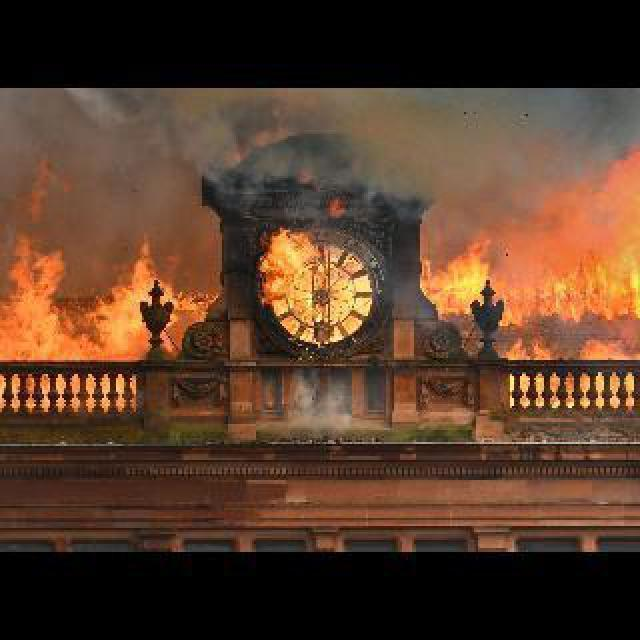Fire: (2, 232, 202, 360), (432, 234, 634, 316), (258, 224, 328, 306)
Smoke: (98, 86, 550, 218), (280, 352, 372, 434)
